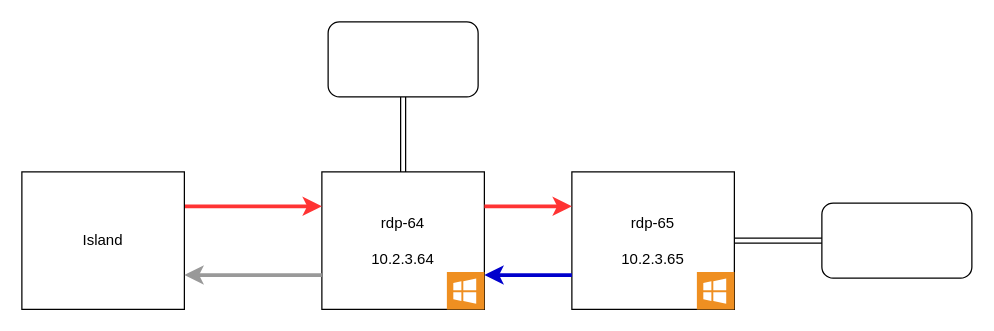
Some shapes in this 994 by 331 pixel diagram are drawn without their labels. The centre of each missing label's shape, as x and y in pixels:
"Pass The Hash Authentication" belongs at point (896, 240).
"Password Authentication" belongs at point (402, 59).
